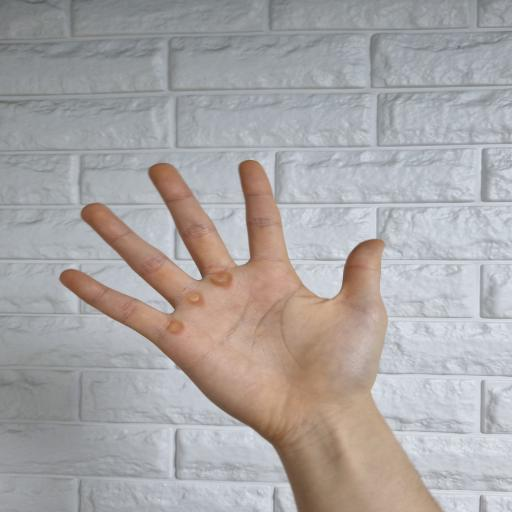Paper: (58, 158, 389, 444)
